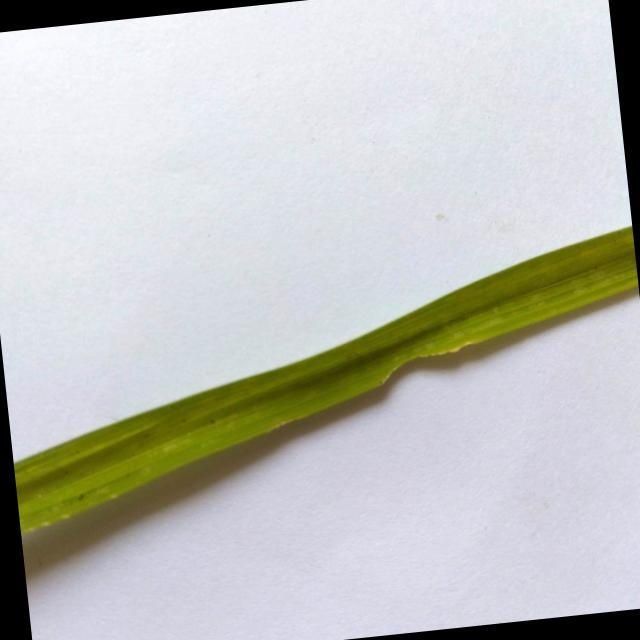Rice_Healthy: (13, 226, 638, 533)
